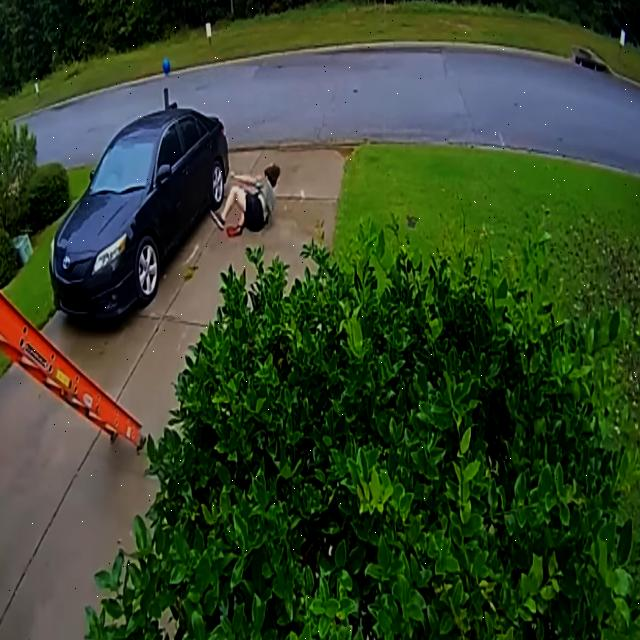fallen: (212, 164, 280, 236)
